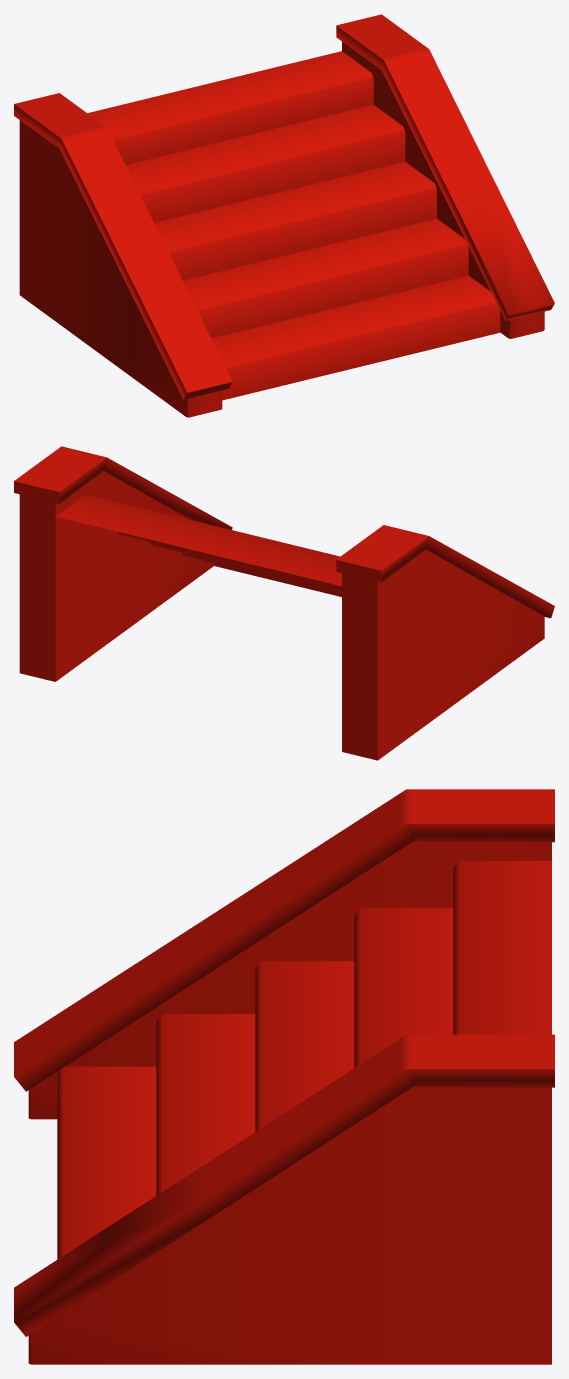
The model's file is IndBuilding1_Base_Stairs.fbx.
3 views of the same model, one above another, from view 1: azimuth 30°, elevation 25°; view 2: azimuth 150°, elevation 25°; view 3: azimuth 270°, elevation 25° (orthographic). The views are drawn at different scales.
Visible parts, largest first — view 1: IndBuilding1_Base_Stairs; view 2: IndBuilding1_Base_Stairs; view 3: IndBuilding1_Base_Stairs.
Part boxes in pixels (x1=…): IndBuilding1_Base_Stairs: x1=14, y1=14, x2=554, y2=417; IndBuilding1_Base_Stairs: x1=14, y1=446, x2=554, y2=760; IndBuilding1_Base_Stairs: x1=14, y1=789, x2=554, y2=1364.
Size of the model in its own units: 2.28 by 1.14 by 1.86.
